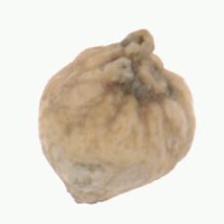L1: (108, 27, 169, 98), (64, 183, 110, 205)
L2: (36, 27, 196, 206)
